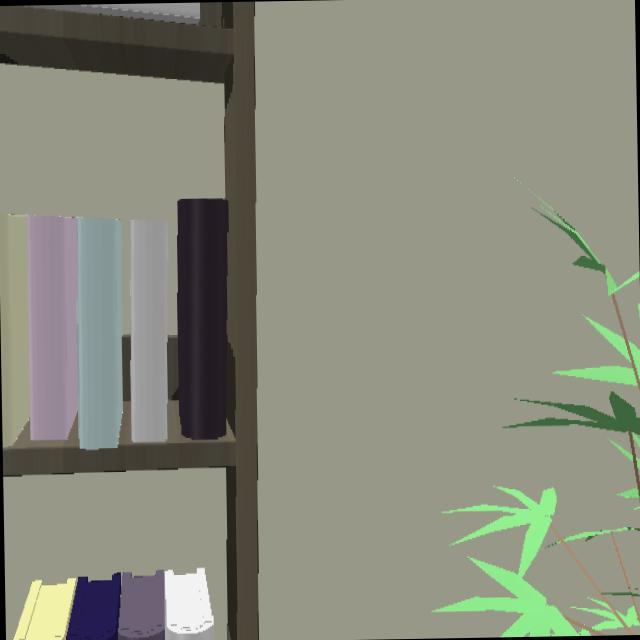book: (177, 199, 228, 438), (27, 215, 78, 439), (78, 218, 123, 449), (131, 220, 167, 440), (13, 579, 77, 640), (164, 567, 213, 640), (66, 574, 120, 640), (118, 570, 164, 640)
shelf: (0, 2, 257, 640)
